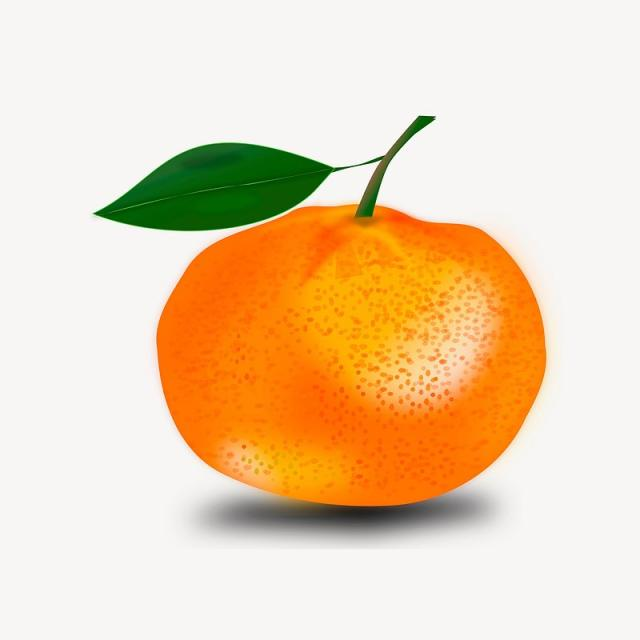orange: (116, 156, 558, 508)
